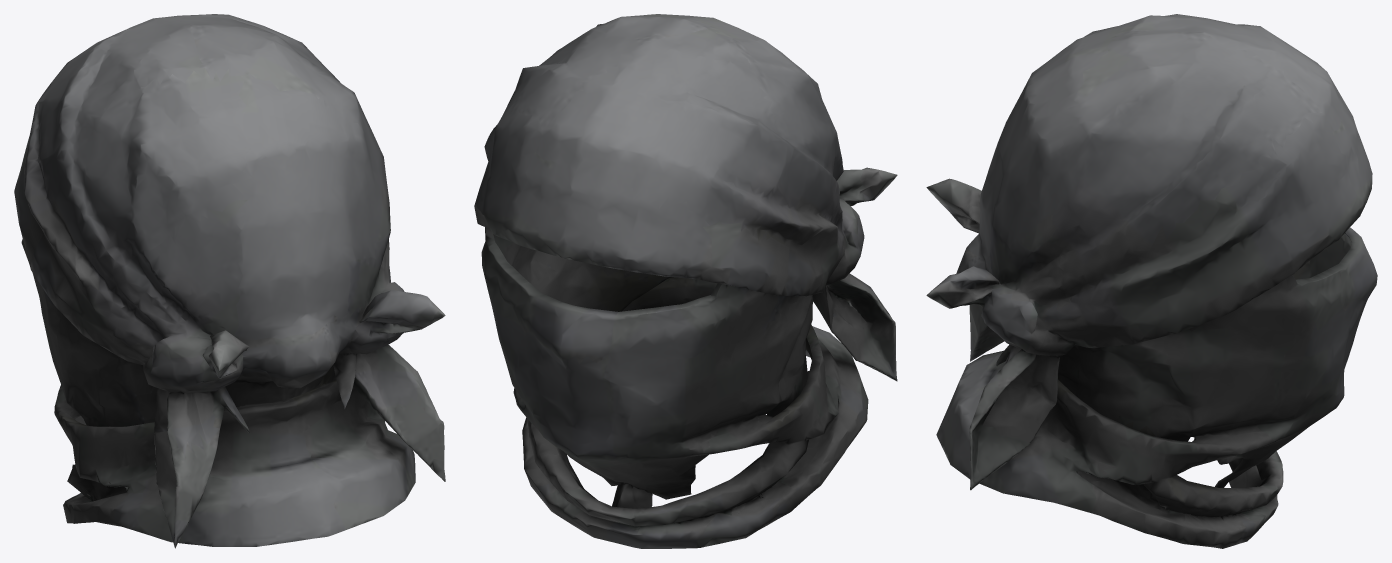
File: mascara_camisa_cinza.glb
The picture shows the model from 3 angles, left to right: view 1: azimuth 30°, elevation 25°; view 2: azimuth 150°, elevation 25°; view 3: azimuth 270°, elevation 25°; orthographic projection. The views are drawn at different scales.
Visible parts, largest first — view 1: tripo_node_5f62da32-5409-4c22-9515-f3fc26010b49; view 2: tripo_node_5f62da32-5409-4c22-9515-f3fc26010b49; view 3: tripo_node_5f62da32-5409-4c22-9515-f3fc26010b49.
Boxes of the visible parts, <box> form: tripo_node_5f62da32-5409-4c22-9515-f3fc26010b49: <box>14,14,445,548</box>; tripo_node_5f62da32-5409-4c22-9515-f3fc26010b49: <box>474,14,897,548</box>; tripo_node_5f62da32-5409-4c22-9515-f3fc26010b49: <box>926,14,1377,548</box>.
Size of the model in its own units: 0.673 by 0.9997 by 0.8518.
Materials: 1 (1 with a texture image).
